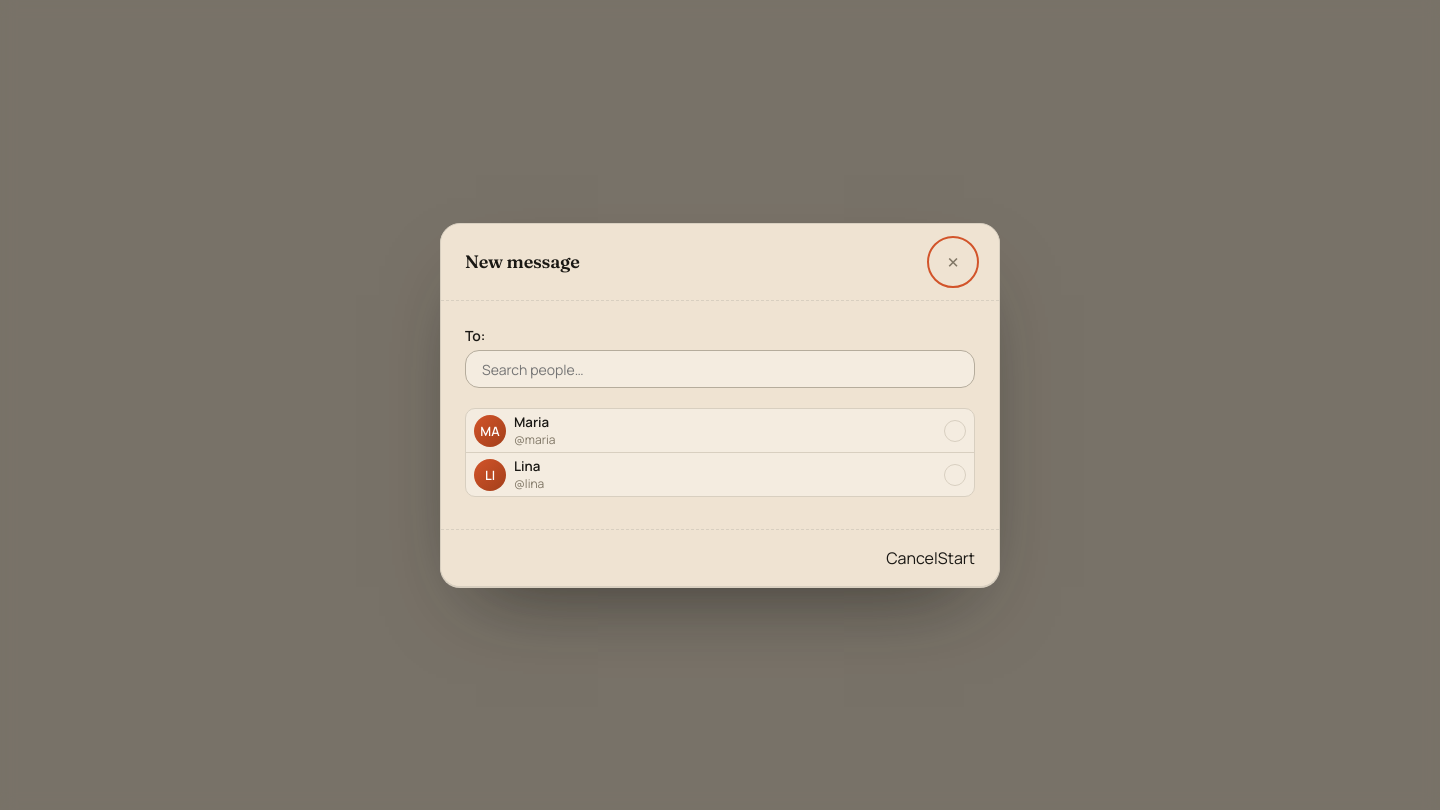
Test: NewDmDialog — local picker › renders the group-name field only after a 2nd member is picked
The width and height of the screenshot is (1440, 810).
Expected: the dialog is shown, [440,223,1000,587]
Expected: the text "Group name" is not shown
Click the option with class "sh-newdm-row" showing "MA Maria @maria" at (490, 430), box [466,409,974,453]
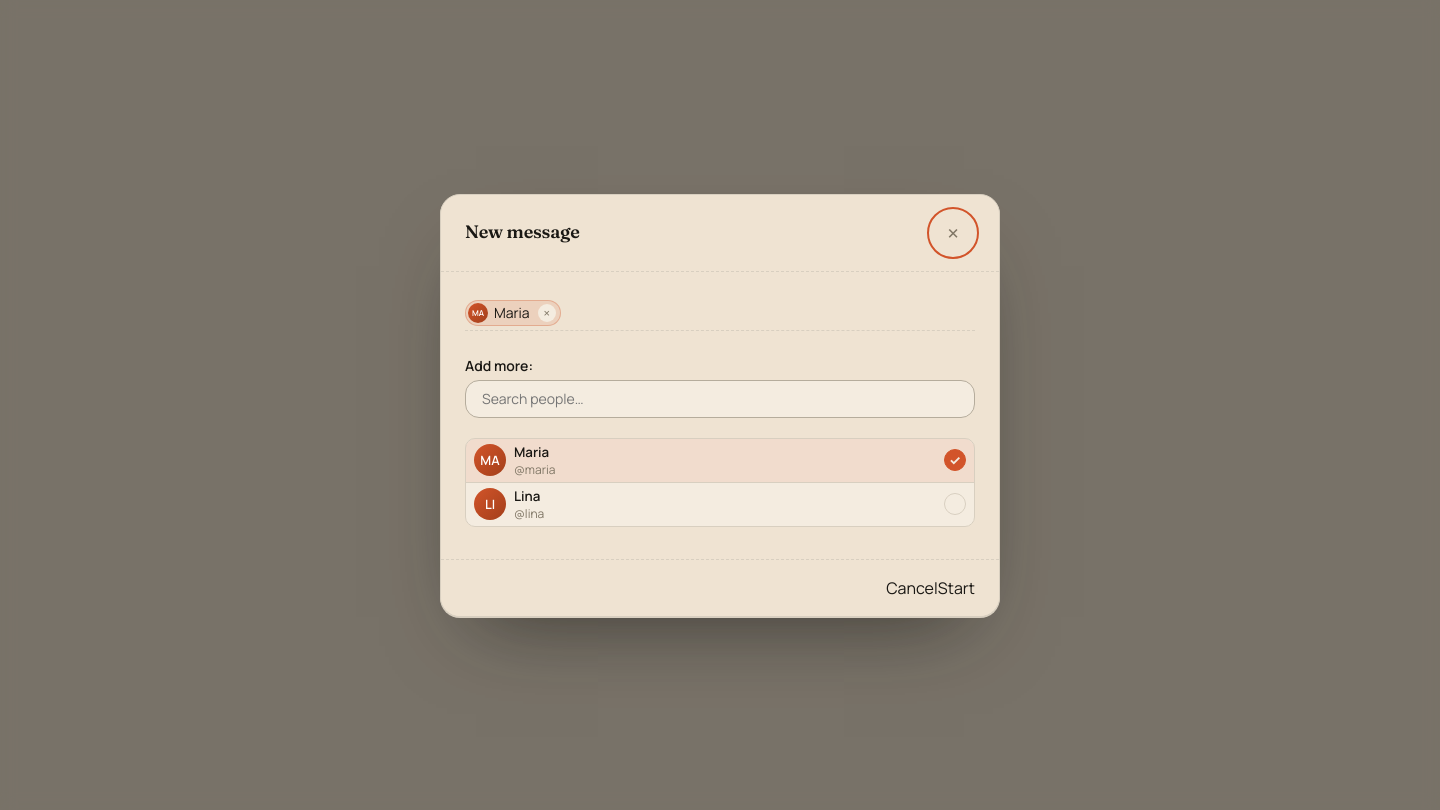
Expected: the text "Group name" is not shown
Click the option with class "sh-newdm-row" showing "LI Lina @lina" at (490, 504), box [466,482,974,526]
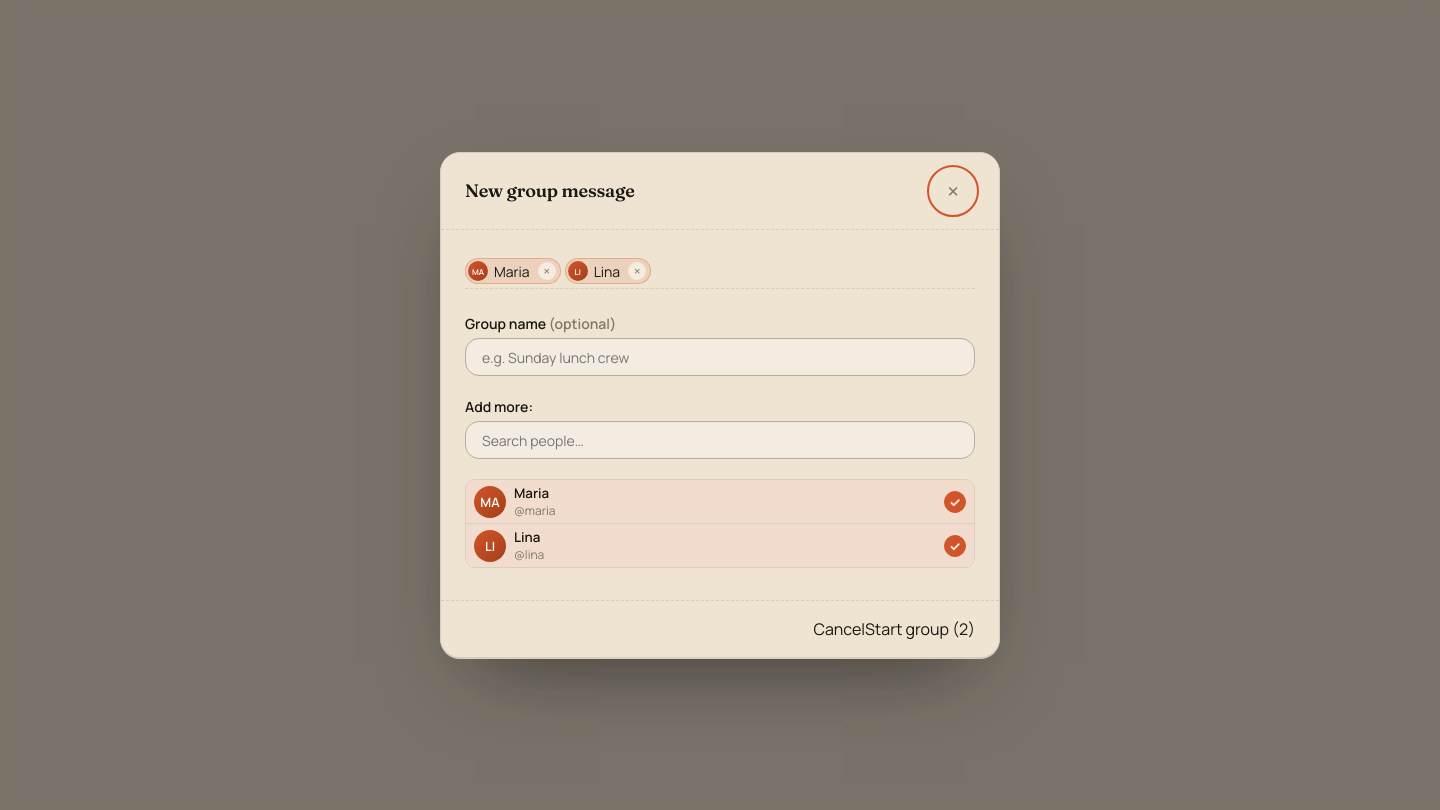
Result: the text "Group name (optional)" is shown at [465,313,975,376]
